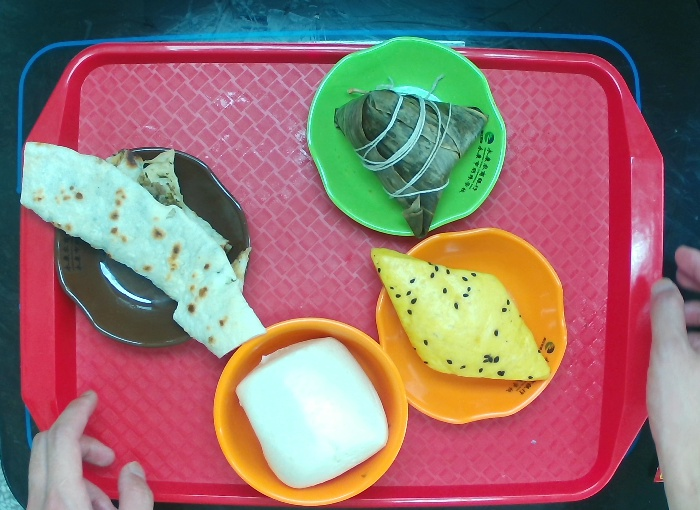YKMZ-Ju_Se_Ao_Bian_Wan: (373, 224, 571, 429)
YKMZ-Ju_Se_Yuan_Wan: (208, 313, 413, 510)
YKMZ-Ka_Fei_Ao_Bian_Wan: (50, 145, 254, 352)
YKMZ-Lv_Se_Ao_Bian_Wan: (303, 33, 509, 240)
